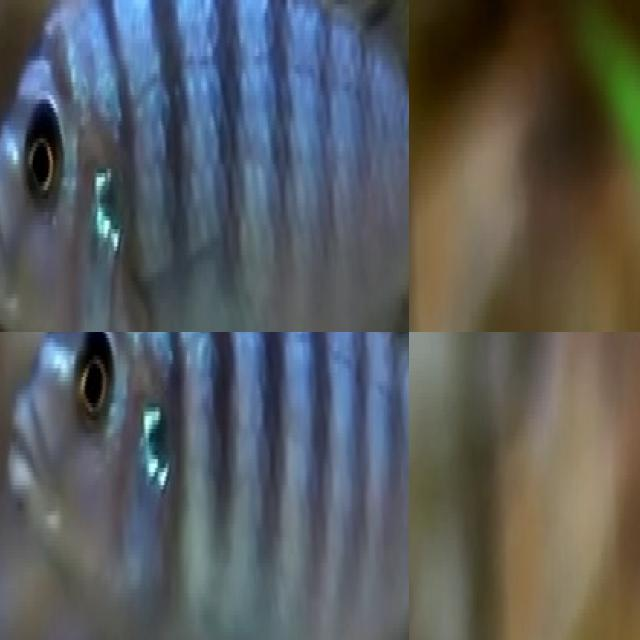fish: (0, 0, 409, 332), (0, 332, 409, 640), (409, 0, 640, 277)
